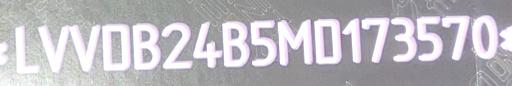letter: (274, 17, 314, 71), (310, 17, 346, 69), (159, 21, 193, 75), (68, 22, 102, 74), (360, 14, 392, 66), (99, 20, 131, 72), (219, 20, 251, 72), (439, 11, 471, 62), (192, 20, 222, 74), (470, 10, 502, 59), (414, 13, 444, 64), (249, 18, 277, 72), (132, 19, 160, 73), (37, 23, 67, 73), (12, 23, 38, 75), (390, 13, 416, 63), (342, 15, 364, 69)
